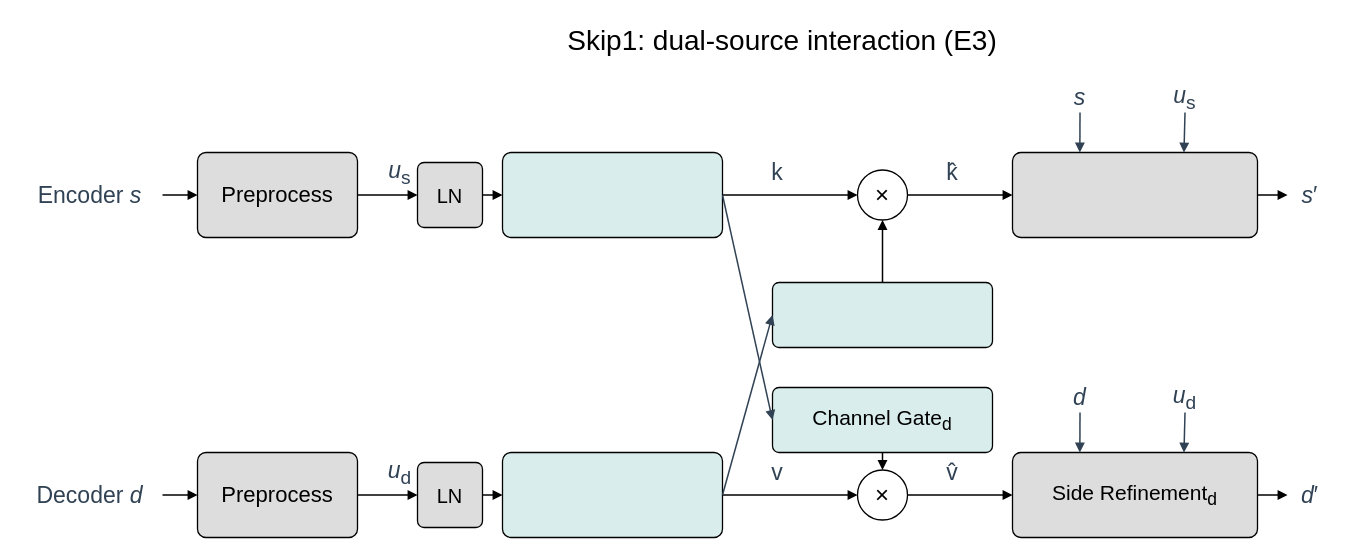
This 1349x555 diagram has some shape labels left out. The shapes that lost their labels are listed below. From the top down, each one's centre as x and y in pixels, then its label:
At (612,194): "Generator G s".
At (1134,194): "Side Refinement s".
At (882,314): "Channel Gate s".
At (612,494): "Generator G d".
